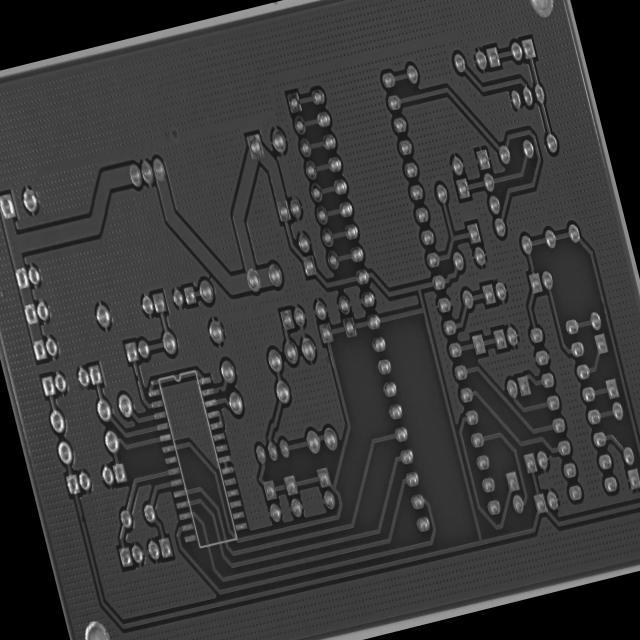mouse_bite: (133, 369, 142, 385), (214, 383, 224, 396), (76, 512, 85, 526)
